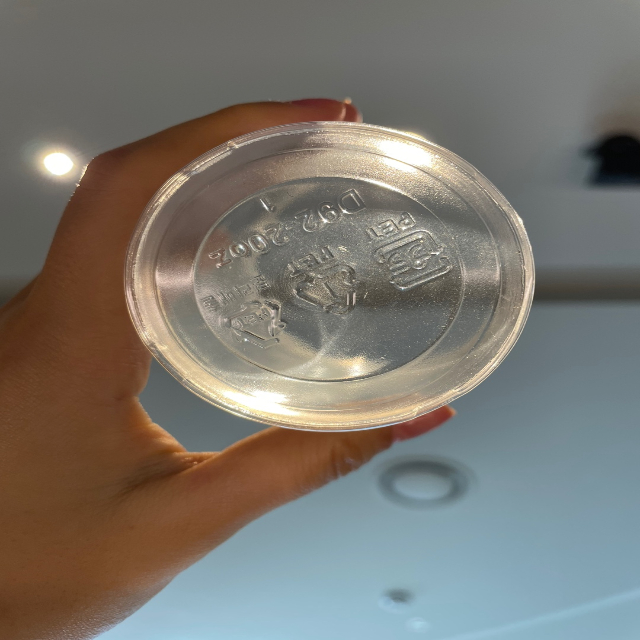pet: (356, 209, 460, 294), (194, 273, 293, 356), (279, 242, 369, 324)
